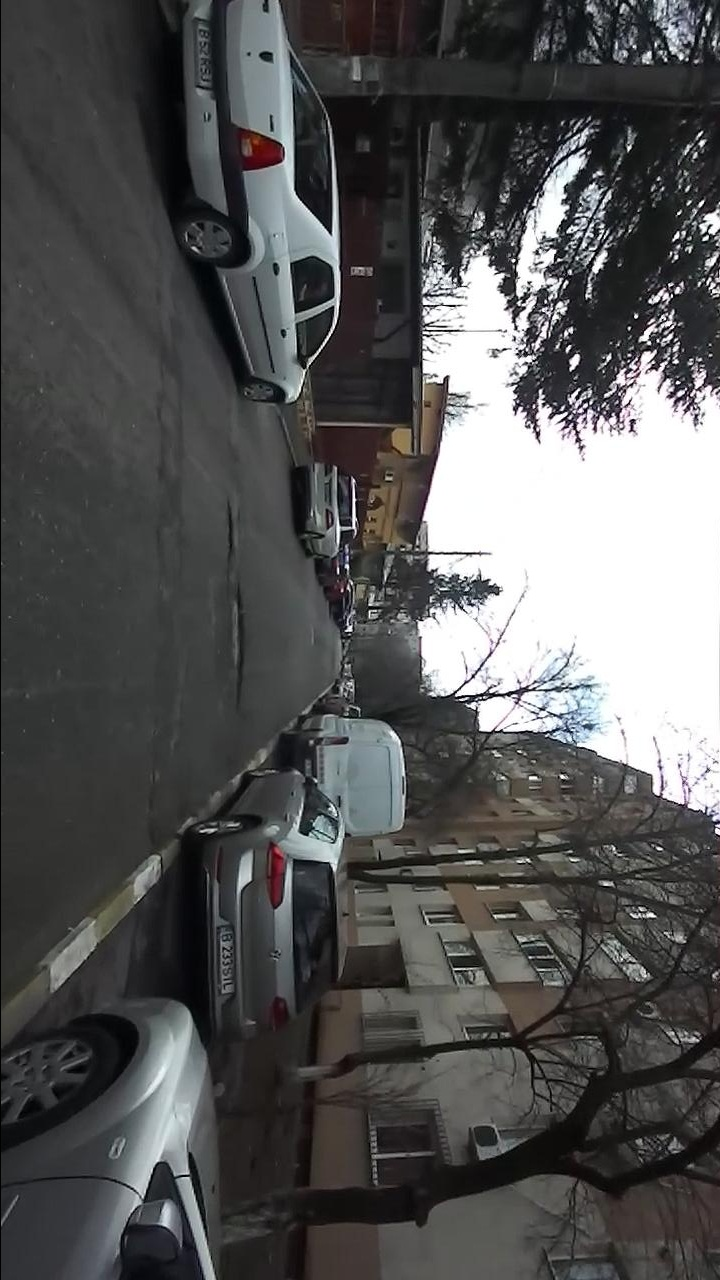pothole: (226, 582, 248, 711), (142, 762, 165, 843), (224, 494, 238, 571)
